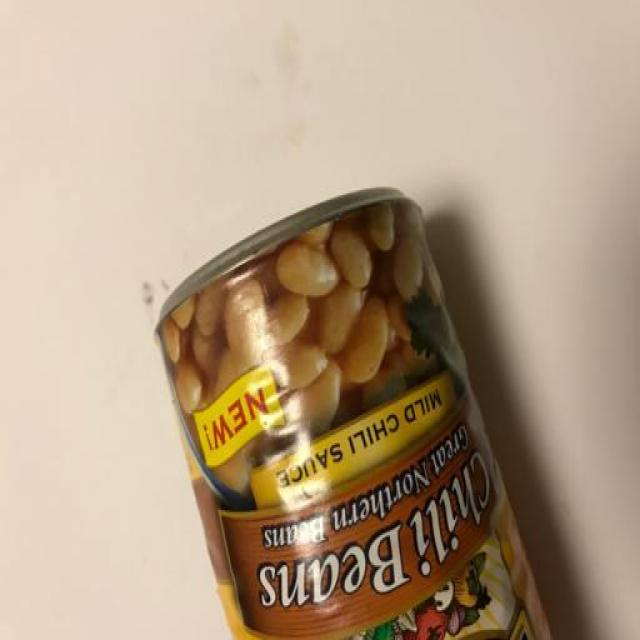metel: (152, 186, 562, 640)
